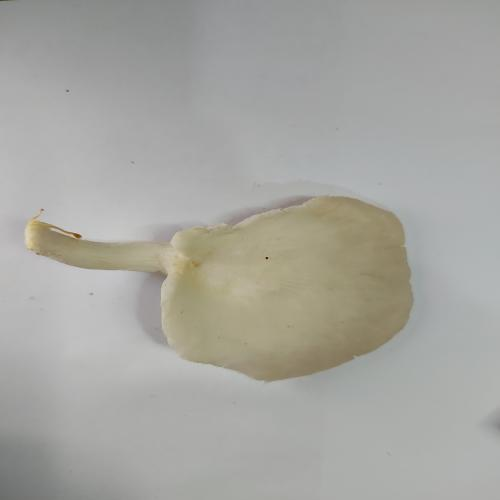Oyster Mushroom: (23, 193, 415, 383)
